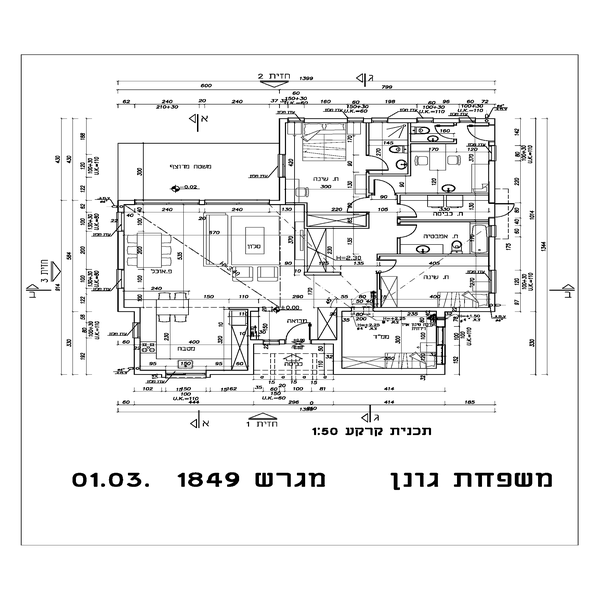door: (484, 194, 526, 225), (279, 312, 315, 347), (361, 145, 391, 177), (466, 120, 495, 147), (367, 174, 401, 197), (433, 121, 457, 147), (343, 195, 370, 217), (395, 220, 417, 247), (375, 256, 399, 277), (395, 198, 417, 219)
room: (114, 190, 276, 373), (272, 116, 377, 230), (363, 110, 495, 200), (367, 247, 497, 319), (323, 304, 450, 377), (365, 192, 497, 259)
wall: (371, 304, 491, 317), (330, 364, 447, 377), (331, 304, 349, 362), (482, 236, 504, 273), (483, 158, 498, 201), (206, 367, 254, 380), (246, 334, 264, 367), (279, 174, 292, 213), (113, 235, 127, 268), (278, 117, 287, 155), (117, 284, 127, 312)
